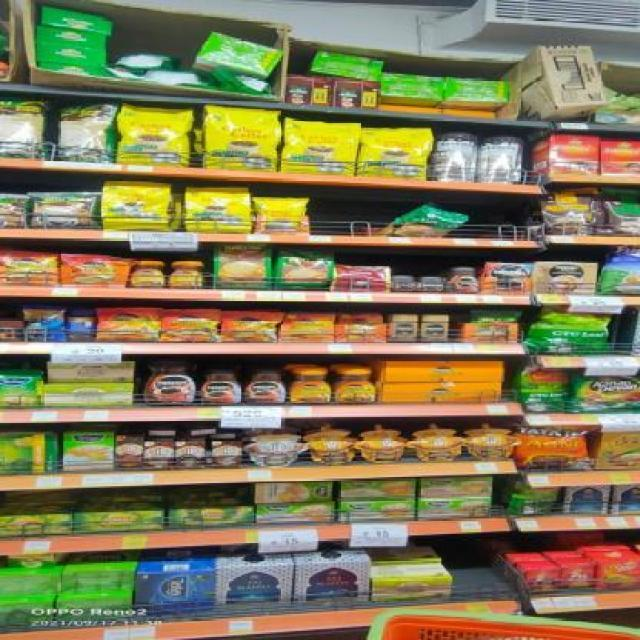Coffee: (144, 360, 196, 406), (61, 254, 128, 288), (96, 308, 159, 341), (0, 254, 58, 286), (160, 310, 218, 341), (221, 311, 277, 341), (288, 369, 332, 403), (335, 368, 376, 403), (244, 370, 284, 404), (199, 371, 239, 404), (128, 260, 168, 288), (493, 264, 530, 294), (170, 260, 204, 288), (448, 268, 478, 294), (392, 314, 417, 342), (423, 314, 448, 340), (421, 276, 444, 292), (396, 276, 416, 290)
